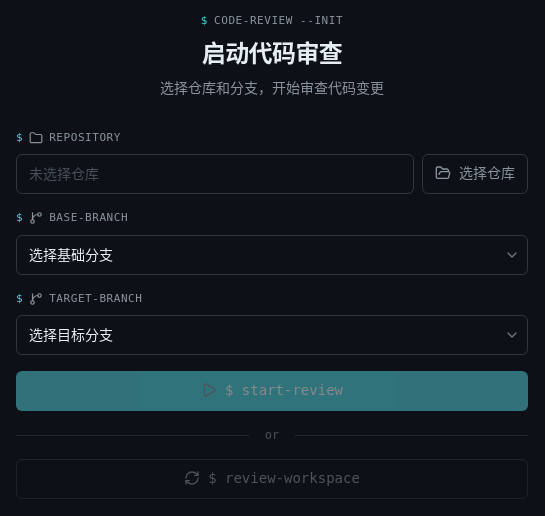
Scenario: ReviewLaunchPage › selects a local repository folder and loads its branches
Expected: the heading "启动代码审查" is shown, [202,38,342,68]
Click the button "选择仓库": click(475, 174) [422,154,528,194]
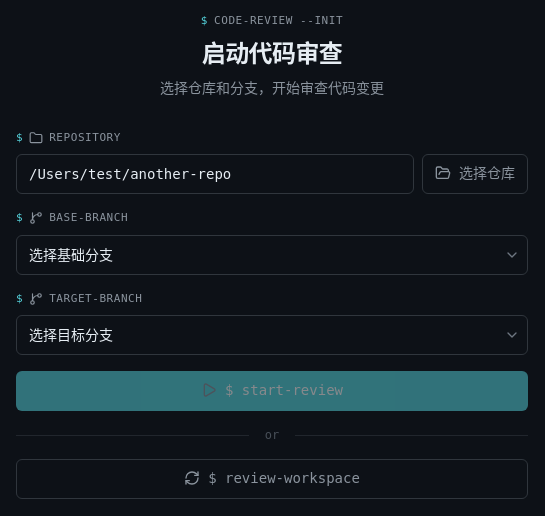
Now the text "/Users/test/another-repo" is shown, box [16,154,414,194]
